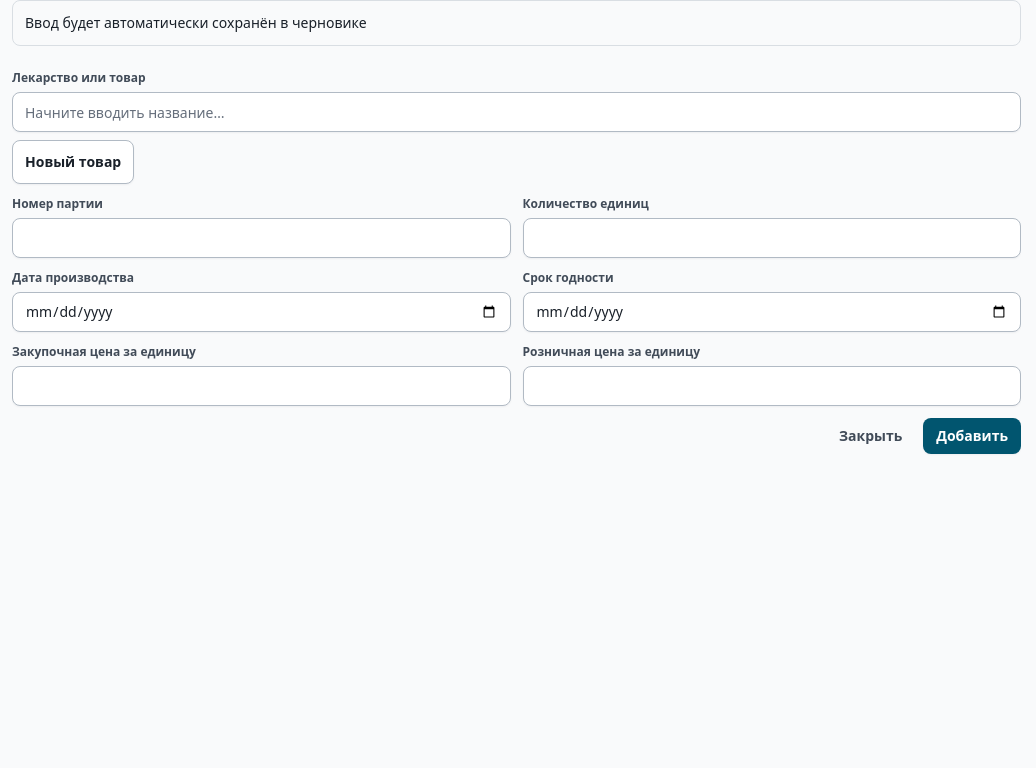
Test: catalog creation from an incoming draft › does not open creation when the incoming snapshot could not be saved
Type "12," into the field labelled "Количество единиц".
click(772, 238); type("12,")  # box [522,218,1021,258]
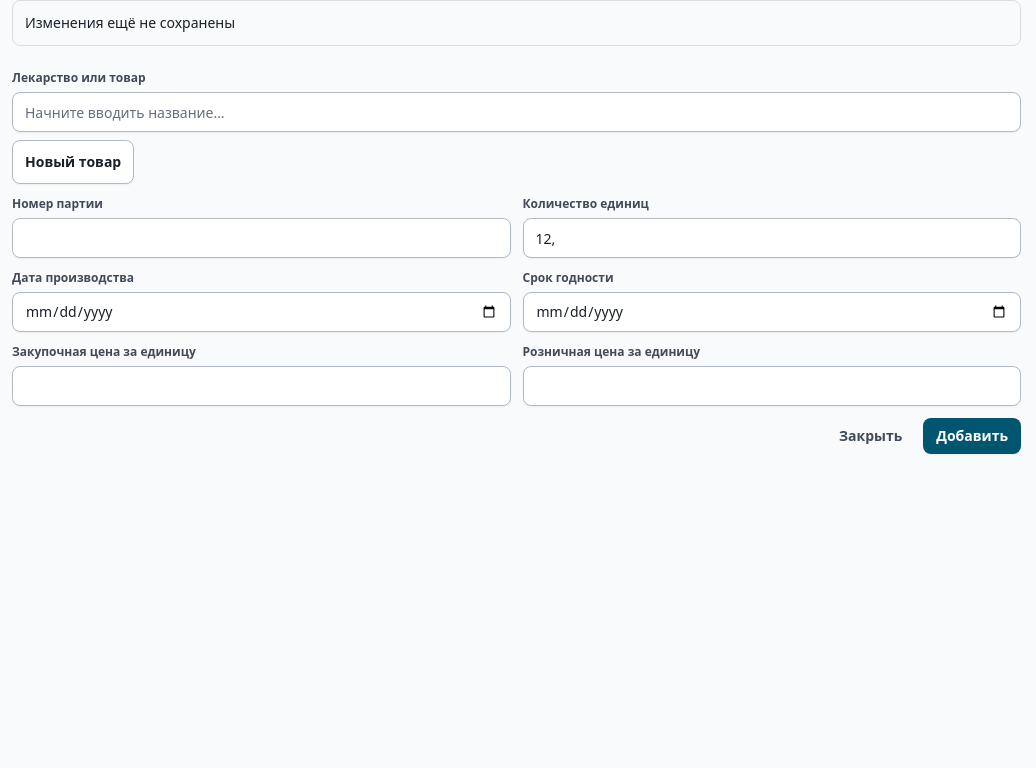
Type "4,50" into the field labelled "Закупочная цена за единицу".
click(261, 386); type("4,50")  # box [12,366,510,406]
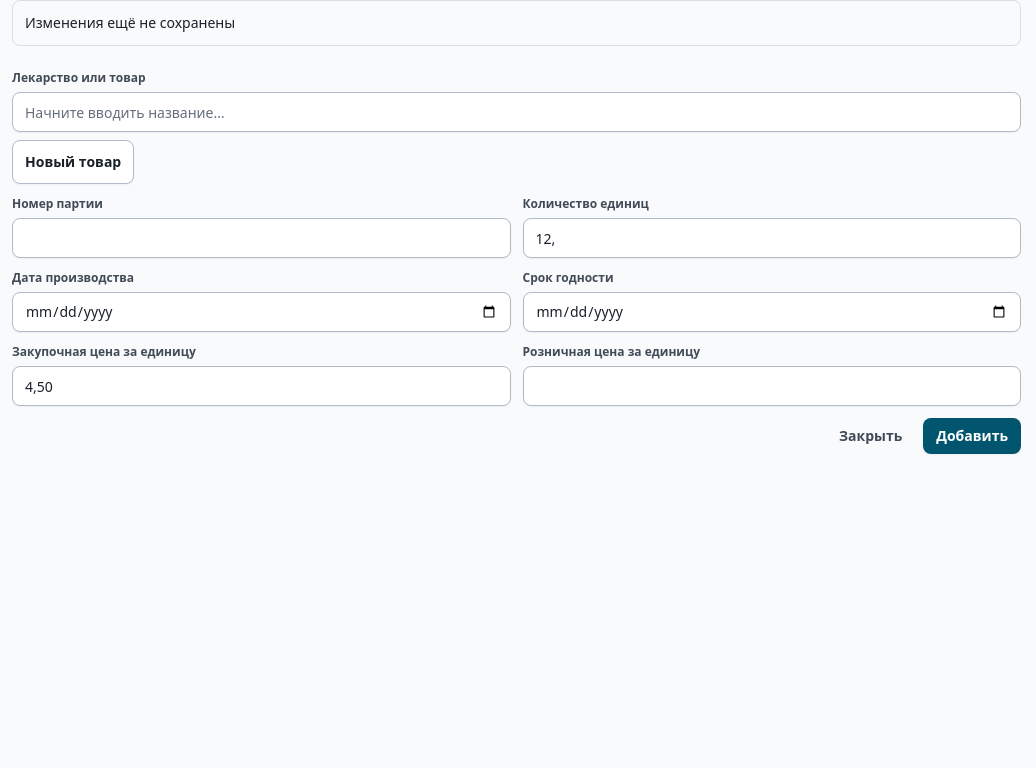
Type "6,20" into the field labelled "Розничная цена за единицу".
click(772, 386); type("6,20")  # box [522,366,1021,406]
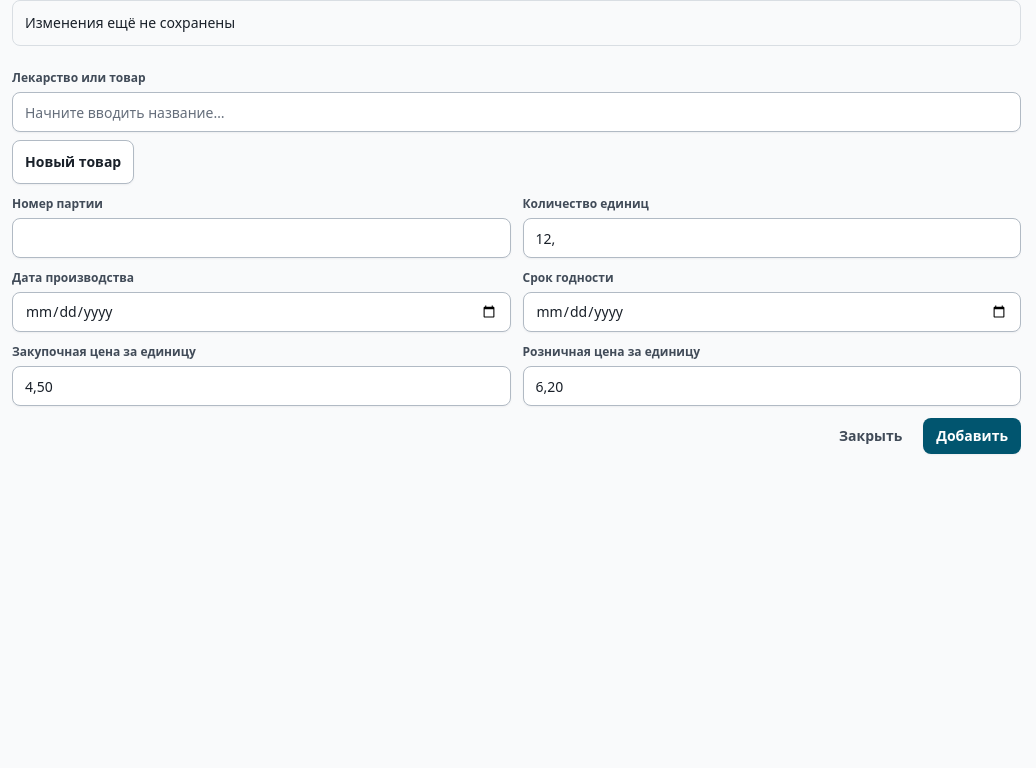
Type "2099-12-31" into the date field labelled "Срок годности".
click(772, 312); type("2099-12-31")  # box [522,292,1021,332]
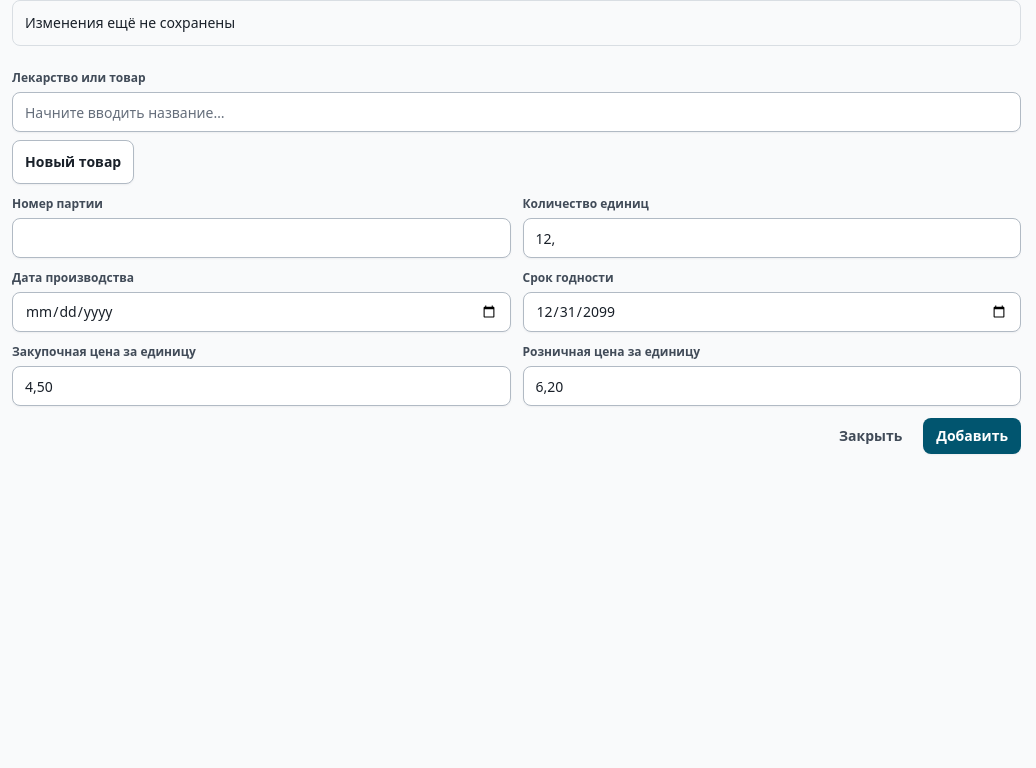
Type "Новый препарат 500 мг" into the dropdown labelled "Лекарство или товар".
click(516, 112); type("Новый препарат 500 мг")  # box [12,92,1021,132]
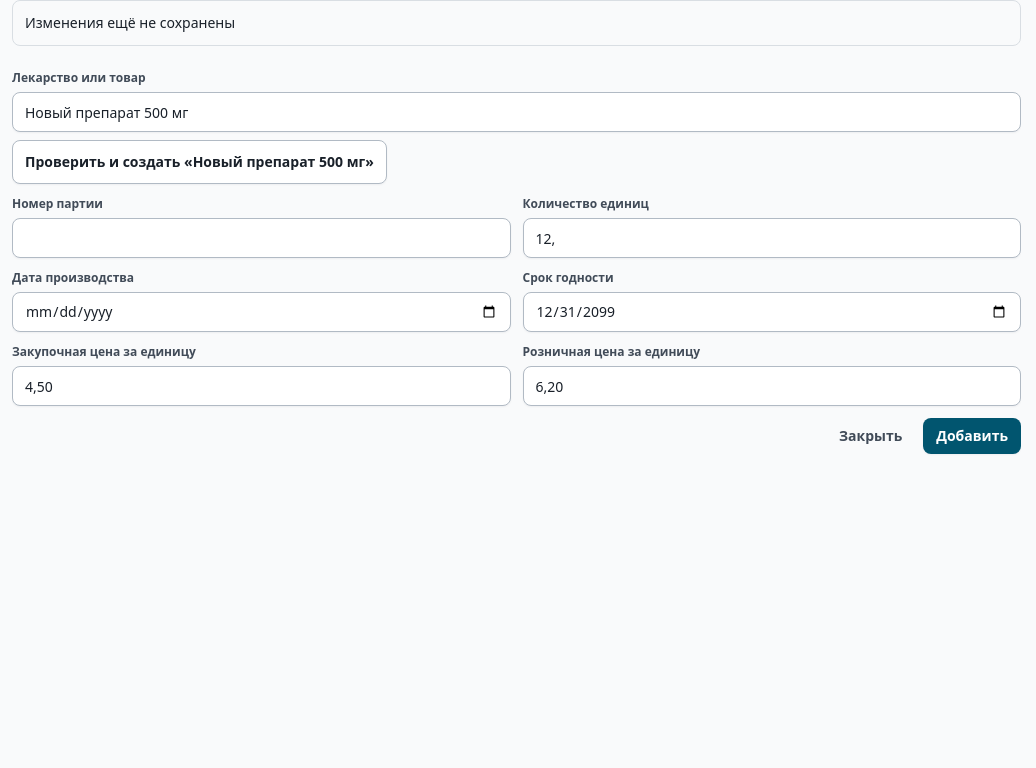
Click the button "Проверить и создать «Новый препарат 500 мг»".
click(199, 162)  # box [12,140,387,184]
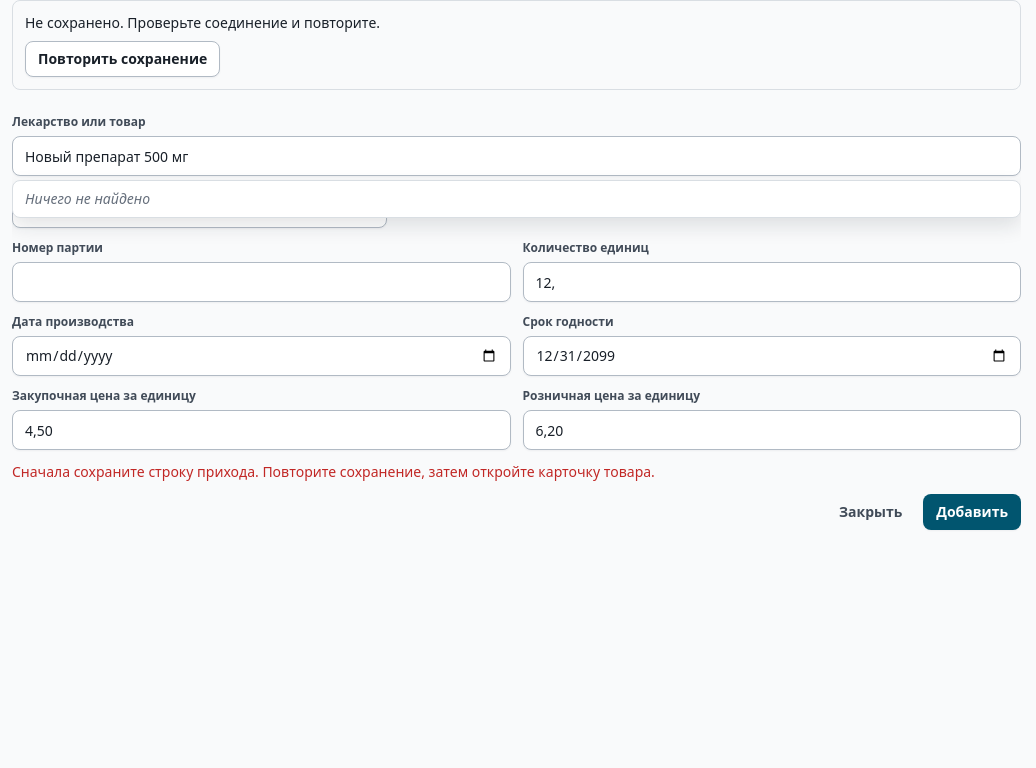
Expected: the text "Сначала сохраните строку прихода" is shown, [12,462,655,481]
